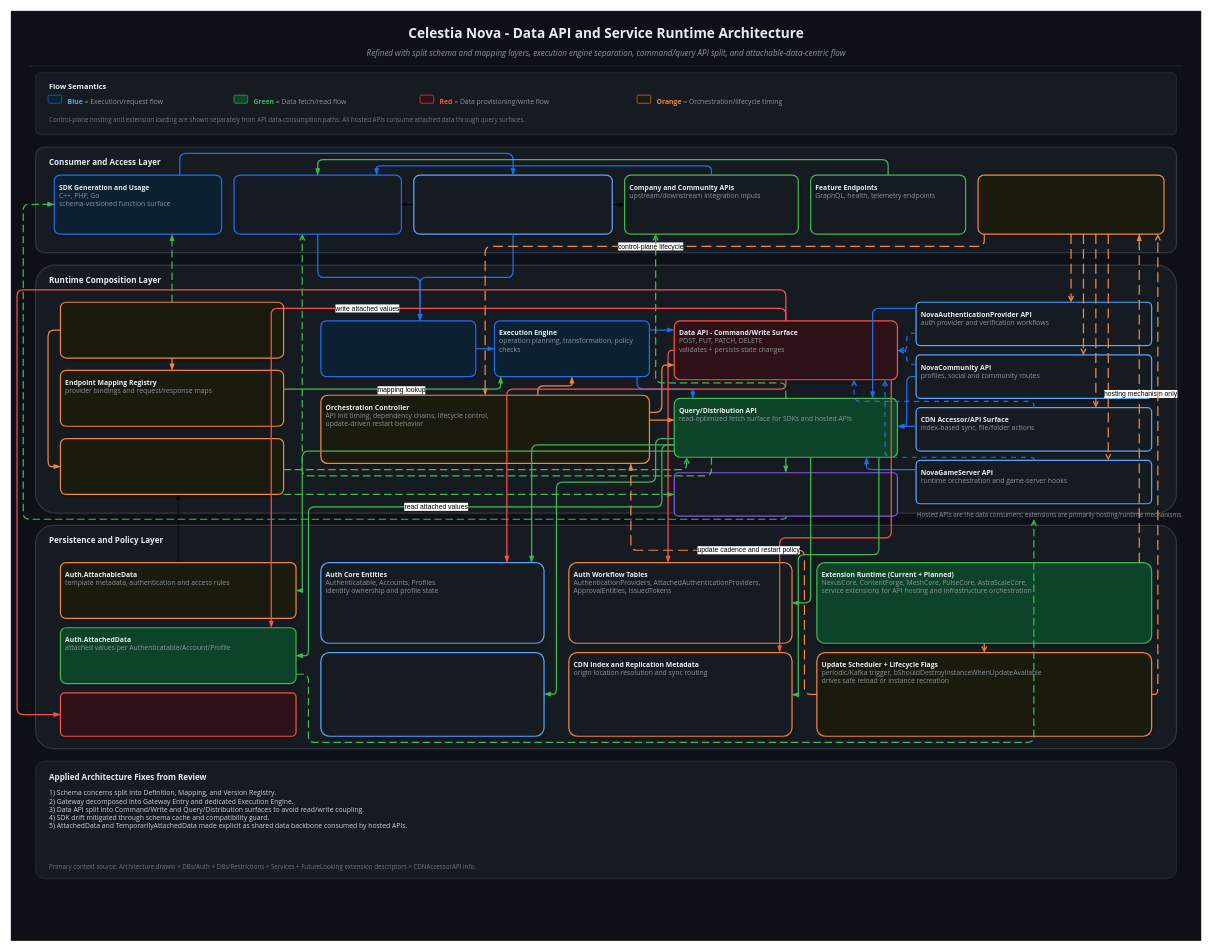
The diagram is 1211 pixels wide and 951 high, and some of its shapes have lost their labels. The centre of each missing label's shape, as x and y in pixels:
"Auth.TemporarilyAttachedData staging values during auth/approval completion" goes at (178,715).
"Call Envelope CallGatewayFunction(operation, schemaVersion)" goes at (513,205).
"Gateway Entry authz, throttling, routing handoff" goes at (398,349).
"Interface Layer REST, GraphQL, WebSocket ingress request normalization" goes at (318,205).
"NovaAPIService Control Plane hosts, starts/stops, describes API capabilities" goes at (1071,205).
"Restrictions DB Roles, Shards, Permissions, shard inheritance policy" goes at (432,695).
"Schema Definition Store types, operations, contracts" goes at (172,331).
"Schema Version Registry compatibility guarantees and migration metadata" goes at (172,467).
"SDK Schema Cache + Compatibility Guard prevents runtime drift on schema updates" goes at (786,495).
